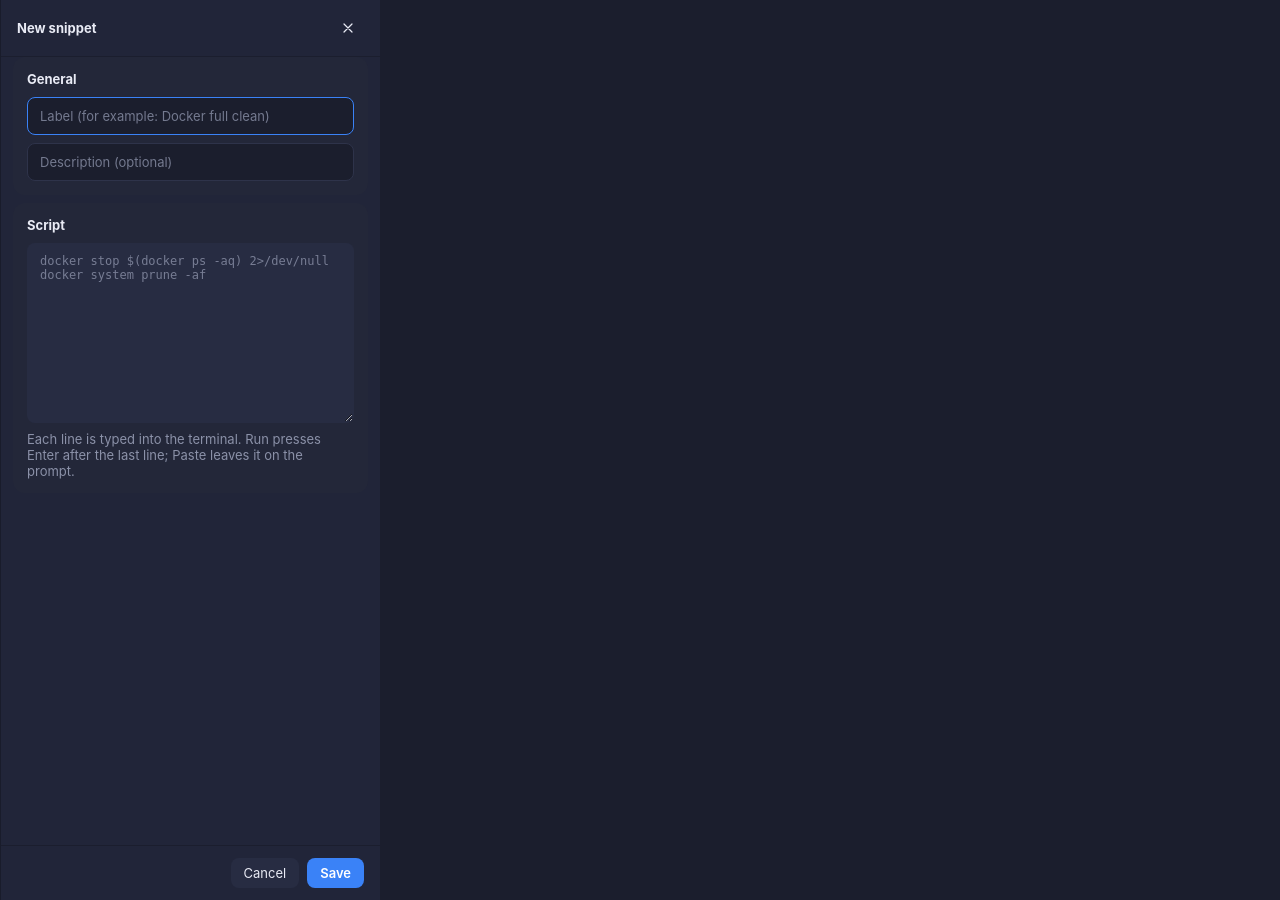
it: SnippetForm › requires a label and a script
Click the button "Save" at x=336, y=873, box [307, 858, 364, 888]
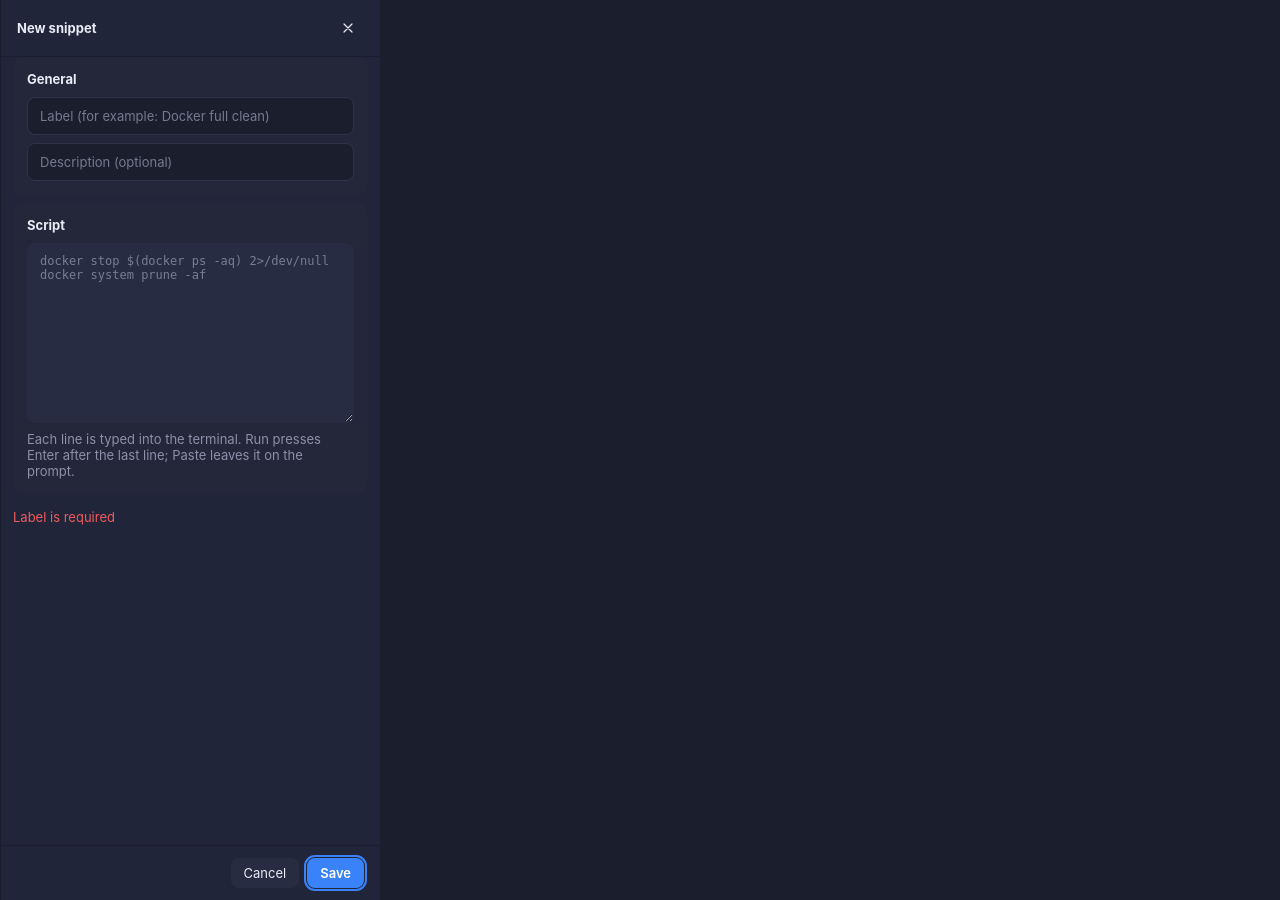
Check: the message reads "Label is required", box [13, 509, 115, 525]
Type "x" into the field named "Snippet label" at x=190, y=116, box [27, 97, 354, 135]
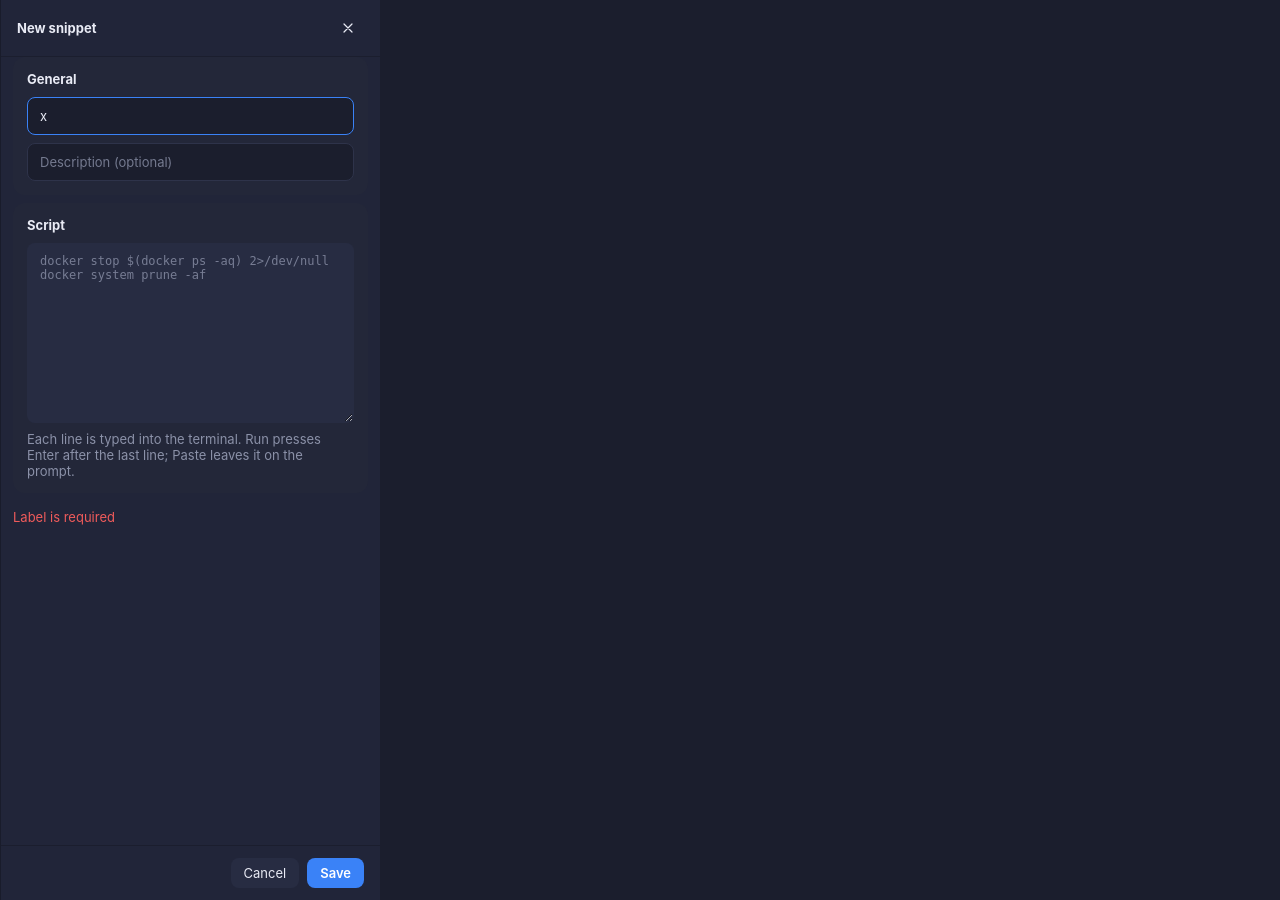
Click the button "Save" at x=336, y=873, box [307, 858, 364, 888]
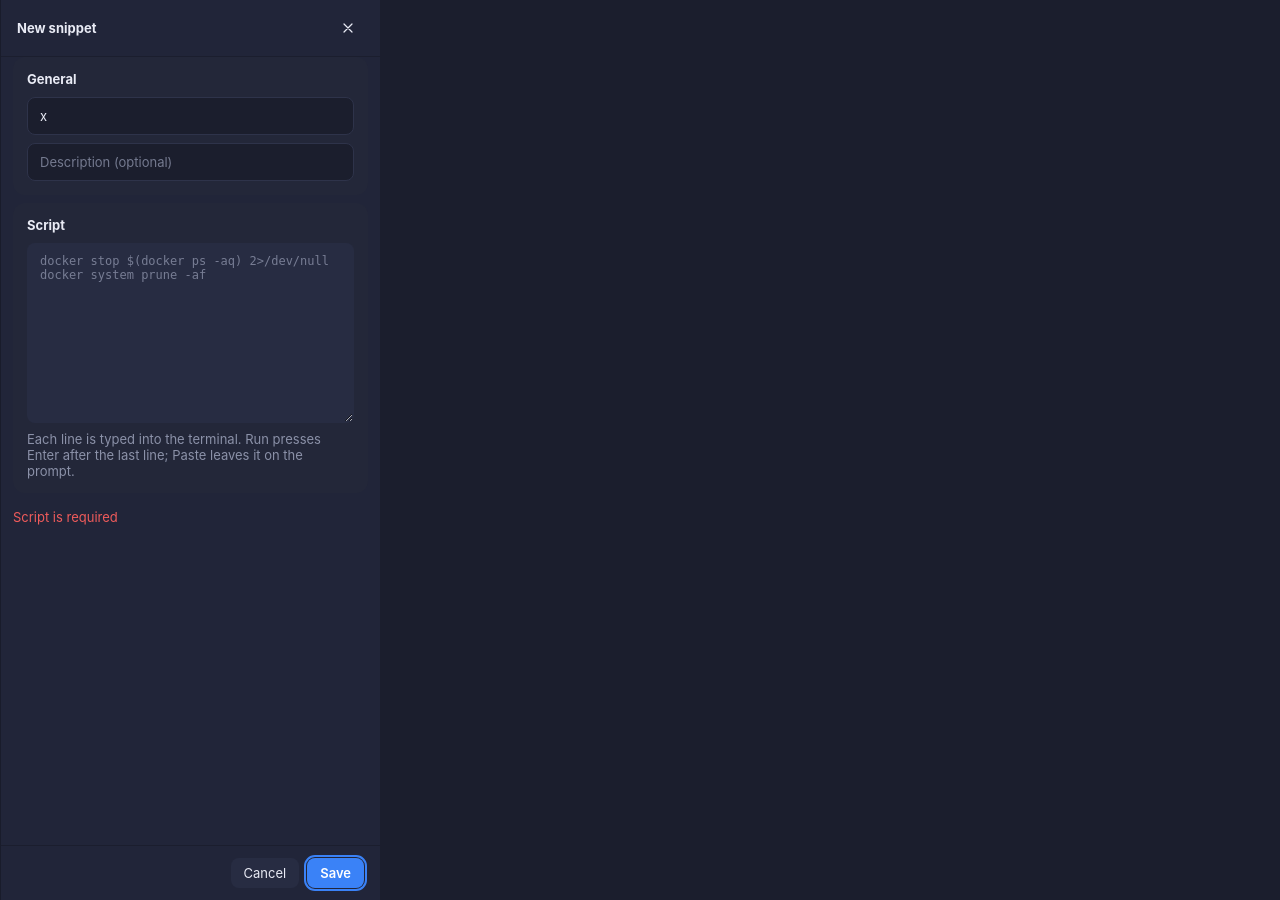
Check: the message reads "Script is required", box [13, 509, 118, 525]
